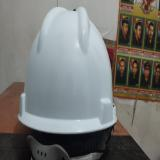Helmet: (18, 6, 117, 134)
